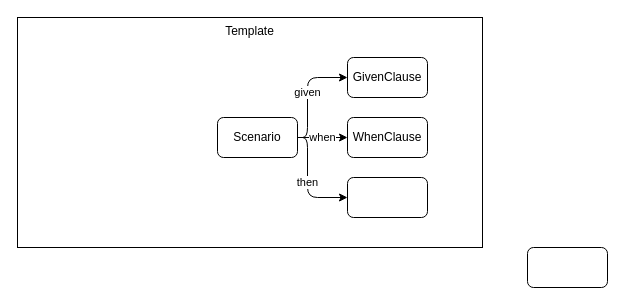
Image size: 625x305. Some labels were removed from this diagram. The shapes that lost their labels are listed below. From the top down, each one's centre as x and y in pixels, then its label:
At pixel 387 197: "ThenClause".
At pixel 567 267: "Feature".
